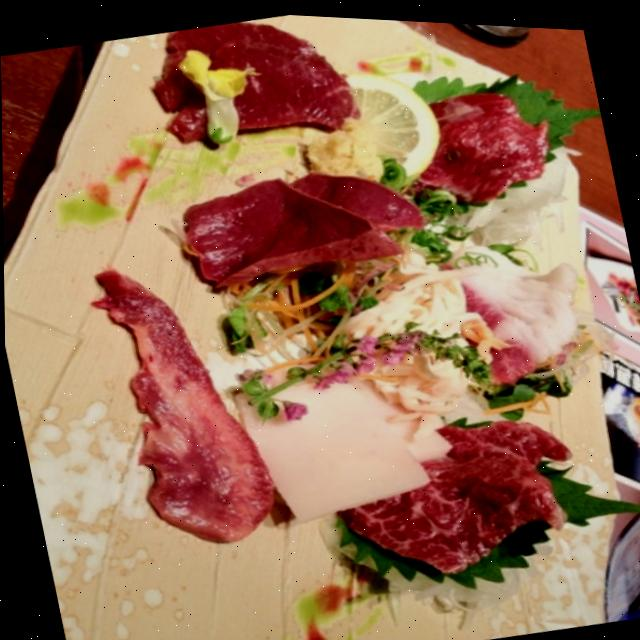刺身生食: (18, 1, 640, 640)
